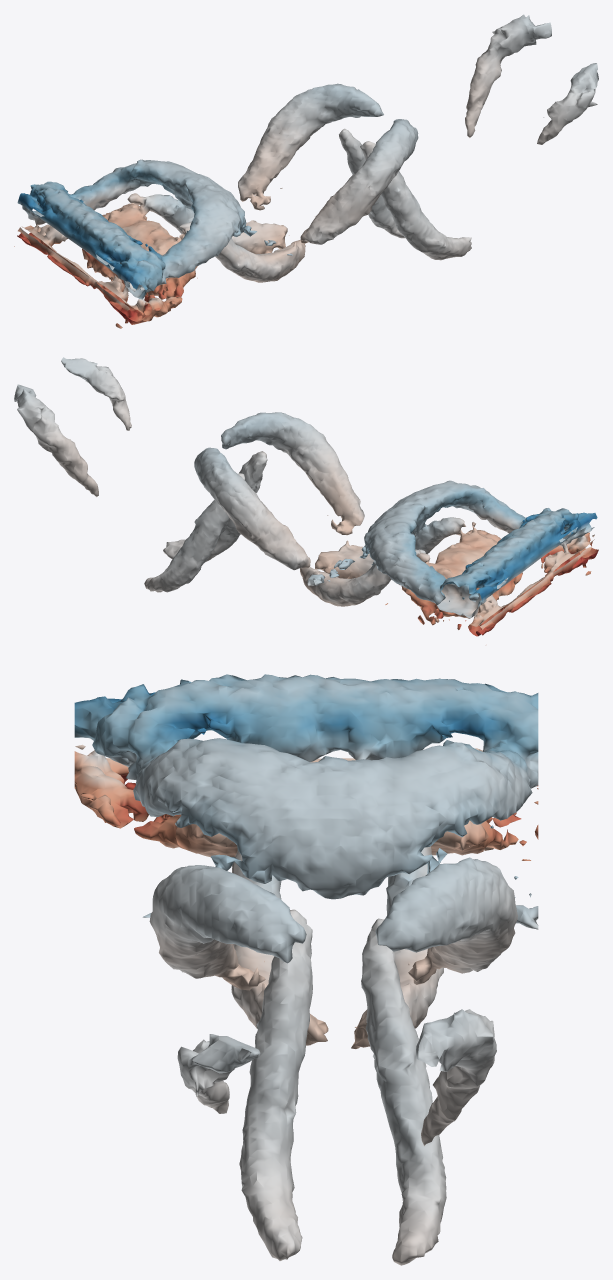
File: q085-full.glb
3 views of the same model, one above another, from view 1: azimuth 30°, elevation 25°; view 2: azimuth 150°, elevation 25°; view 3: azimuth 270°, elevation 25° (orthographic). The views are drawn at different scales.
Size of the model in its own units: 6.32 by 2.22 by 2.54.
